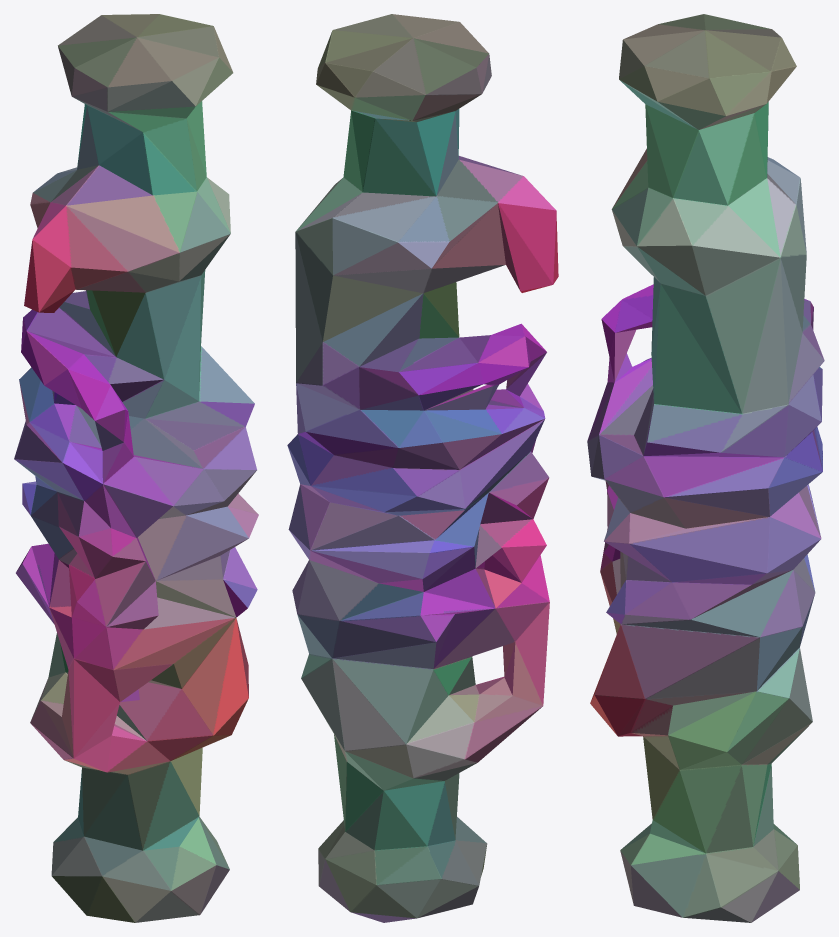
3 views of the same model, side by side, from view 1: azimuth 30°, elevation 25°; view 2: azimuth 150°, elevation 25°; view 3: azimuth 270°, elevation 25° (orthographic).
Visible parts, largest first — view 1: Mesh_0; view 2: Mesh_0; view 3: Mesh_0.
Part boxes in pixels (x1,y1,x2,y2): Mesh_0: (14, 14, 258, 922); Mesh_0: (287, 14, 558, 922); Mesh_0: (587, 14, 824, 922).
Size of the model in its own units: 49.34 by 184 by 45.08.
Materials: 1 (1 with a texture image).
